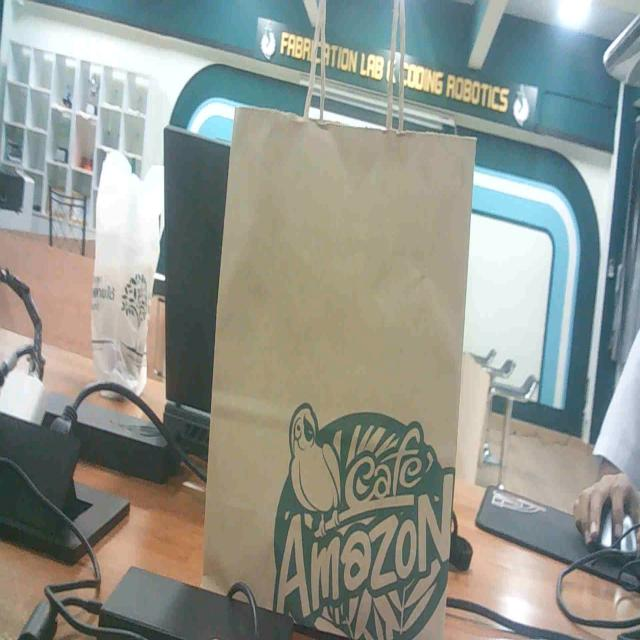bag: (199, 84, 490, 631)
